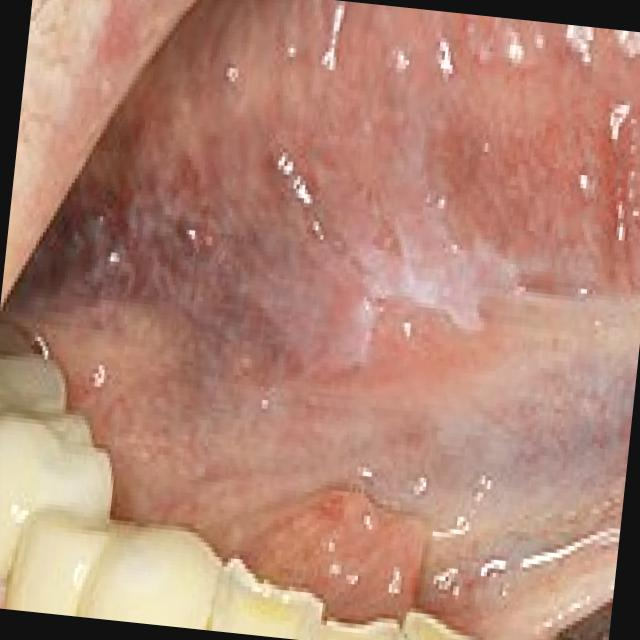Cancer: (56, 86, 640, 467), (247, 452, 620, 634)
